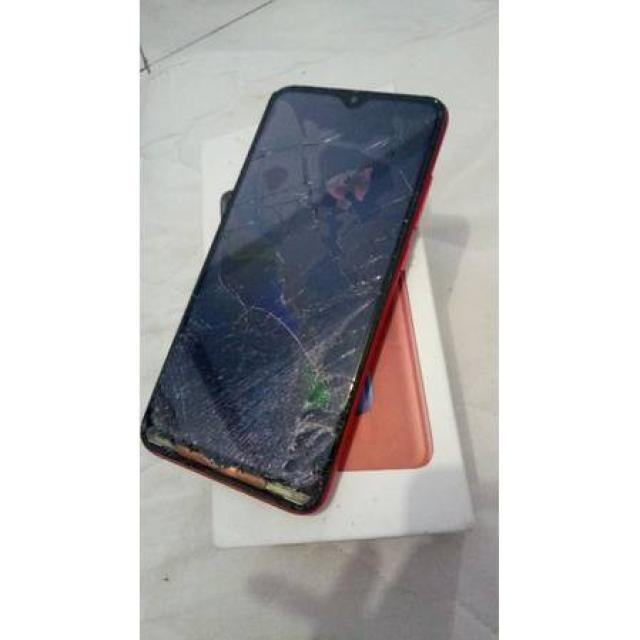phone: (138, 80, 460, 514)
